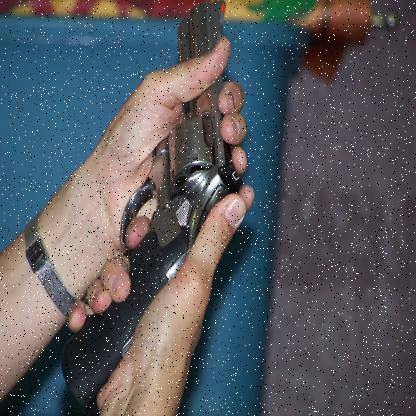pistol: (60, 1, 241, 403)
